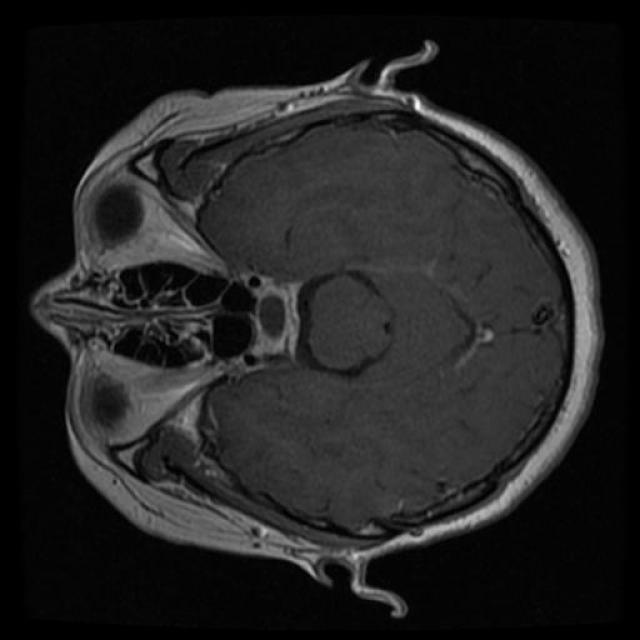Pituitary: (210, 273, 305, 368)
